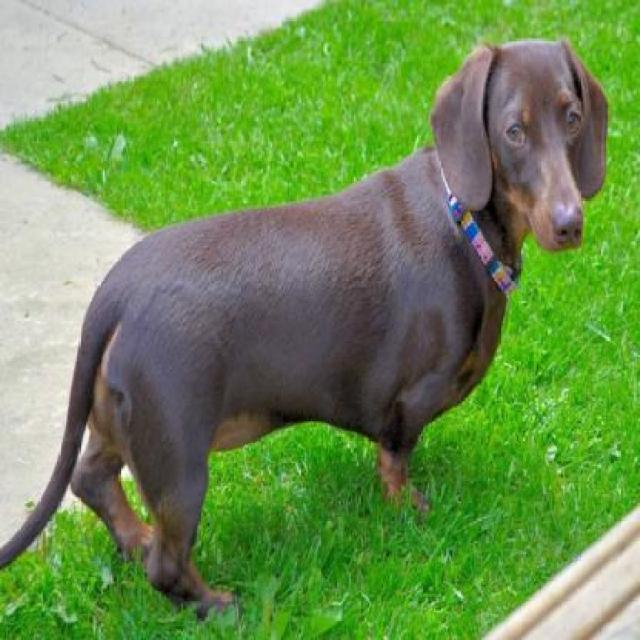Dog: (0, 12, 612, 619)
